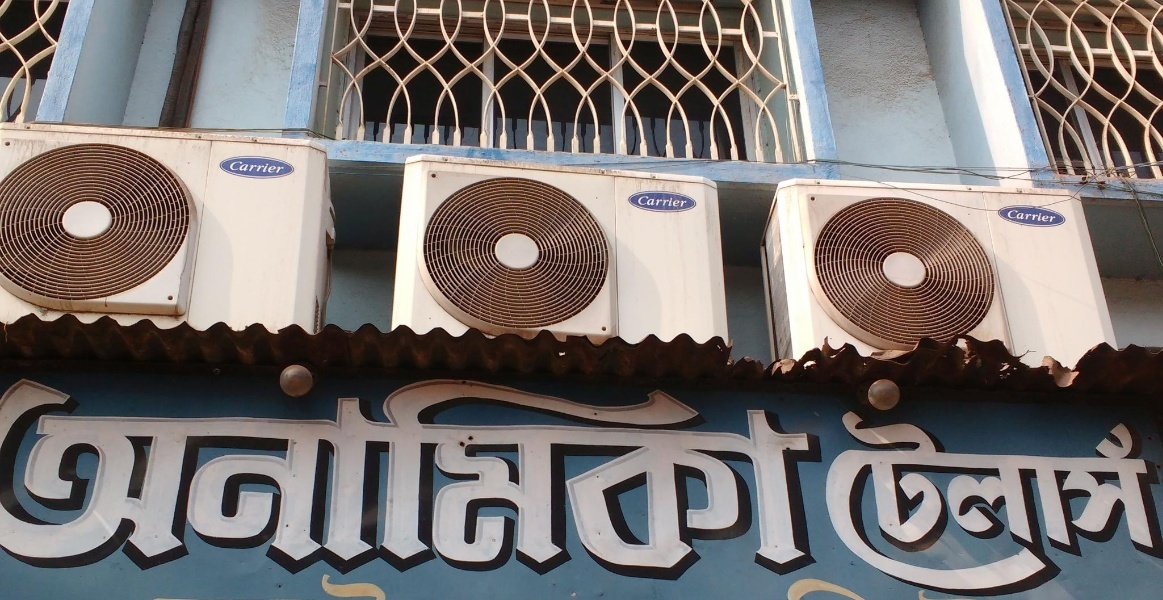text: (17, 363, 32, 585), (33, 363, 48, 585), (49, 363, 64, 585), (65, 363, 80, 585), (81, 363, 96, 585), (97, 363, 112, 585), (113, 363, 128, 585), (129, 363, 144, 585), (145, 363, 160, 585), (161, 363, 176, 585), (177, 363, 192, 585), (193, 363, 208, 585), (209, 363, 224, 585), (225, 363, 240, 585), (241, 363, 256, 585), (257, 363, 272, 585), (273, 363, 288, 585), (289, 363, 304, 585), (305, 363, 320, 585), (321, 363, 336, 585), (337, 363, 352, 585), (353, 363, 368, 585), (369, 363, 384, 585), (385, 363, 400, 585), (401, 363, 416, 585), (417, 363, 432, 585), (433, 363, 448, 585), (449, 363, 464, 585), (465, 363, 480, 585), (481, 363, 496, 585), (497, 363, 512, 585), (513, 363, 528, 585), (529, 363, 544, 585), (545, 363, 560, 585), (561, 363, 576, 585), (577, 363, 592, 585), (593, 363, 608, 585), (609, 363, 624, 585), (625, 363, 640, 585), (641, 363, 656, 585), (657, 363, 672, 585), (673, 363, 688, 585), (689, 363, 704, 585), (705, 363, 720, 585), (721, 363, 736, 585), (737, 363, 752, 585), (753, 363, 768, 585), (769, 363, 784, 585), (785, 363, 800, 585), (801, 363, 816, 585), (2, 363, 16, 585), (833, 408, 848, 598), (849, 408, 864, 598), (865, 408, 880, 598), (881, 408, 896, 598), (897, 408, 912, 598), (913, 408, 928, 598), (929, 408, 944, 598), (945, 408, 960, 598), (961, 408, 976, 598), (977, 408, 992, 598), (993, 408, 1008, 598), (1009, 408, 1024, 598), (1025, 408, 1040, 598), (1041, 408, 1056, 598), (1057, 408, 1072, 598), (1073, 408, 1088, 598), (1089, 408, 1104, 598), (1105, 408, 1120, 598), (1121, 408, 1136, 598), (1137, 408, 1152, 598), (817, 363, 828, 585), (1153, 408, 1162, 598), (824, 408, 832, 598), (321, 574, 336, 600), (337, 574, 352, 600), (353, 574, 368, 600), (369, 574, 384, 600), (785, 577, 800, 600), (801, 577, 816, 600), (817, 577, 832, 600), (833, 577, 848, 600), (849, 577, 864, 600), (241, 158, 256, 179), (257, 158, 272, 179), (273, 158, 288, 179), (1009, 207, 1024, 227), (1025, 207, 1040, 227), (1041, 207, 1056, 227), (673, 193, 689, 210), (641, 193, 656, 210), (657, 193, 672, 210), (233, 158, 240, 179), (385, 574, 390, 600), (781, 577, 784, 600), (1057, 207, 1060, 227), (865, 577, 866, 600), (1007, 207, 1008, 227)
